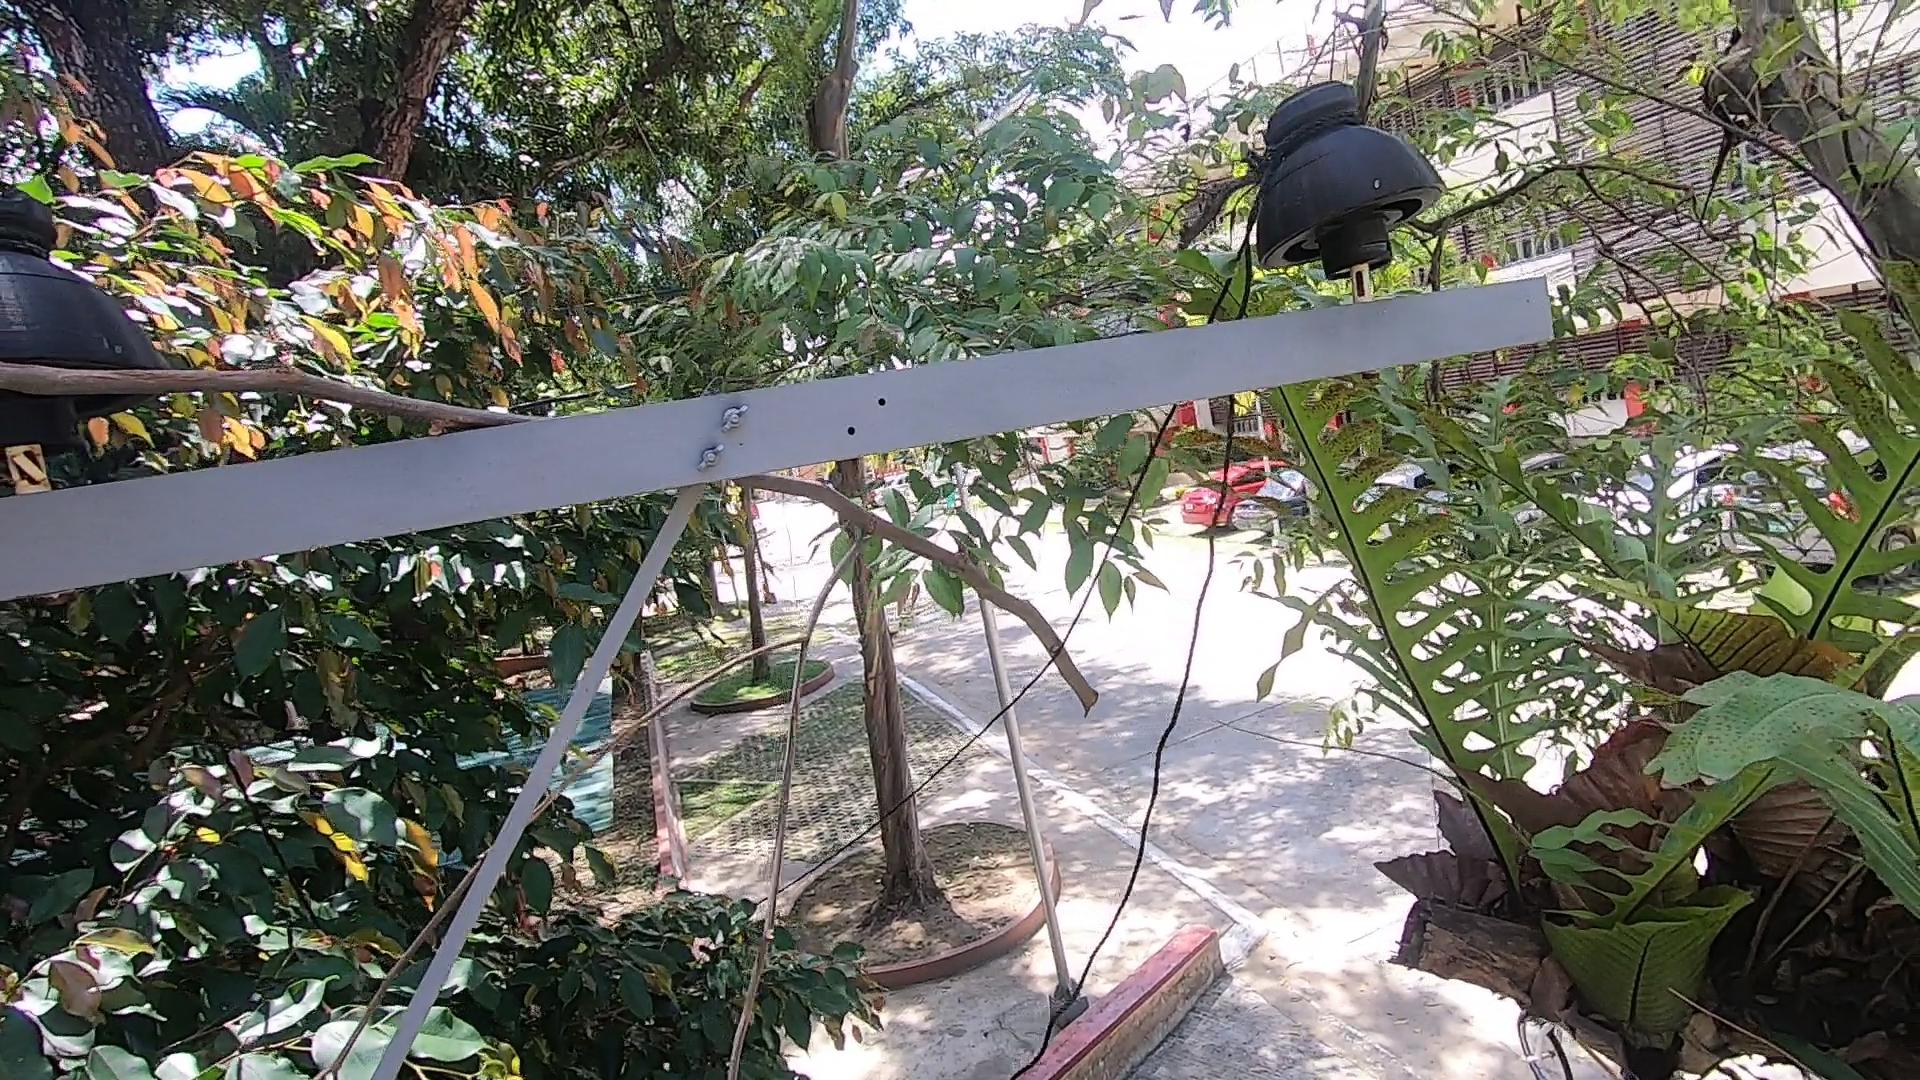tree branch: (524, 469, 1149, 1080), (303, 851, 479, 1080), (1, 365, 541, 425)
